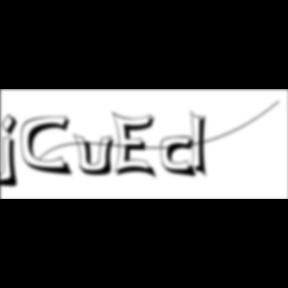C: (22, 115, 76, 178)
E: (112, 110, 162, 182)
c: (161, 136, 201, 180)
j: (1, 113, 25, 191)
l: (192, 108, 215, 182)
u: (73, 132, 121, 178)
